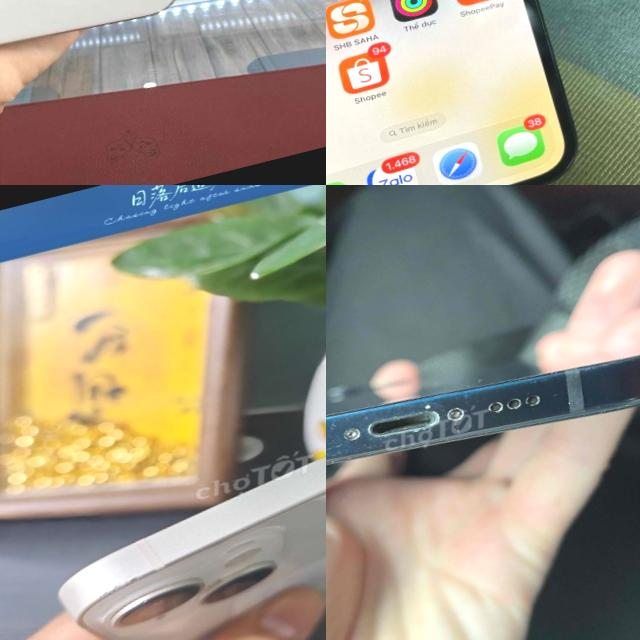scratch: (326, 338, 604, 520)
